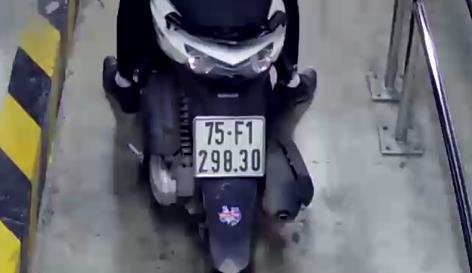lisence: (192, 117, 266, 176)
